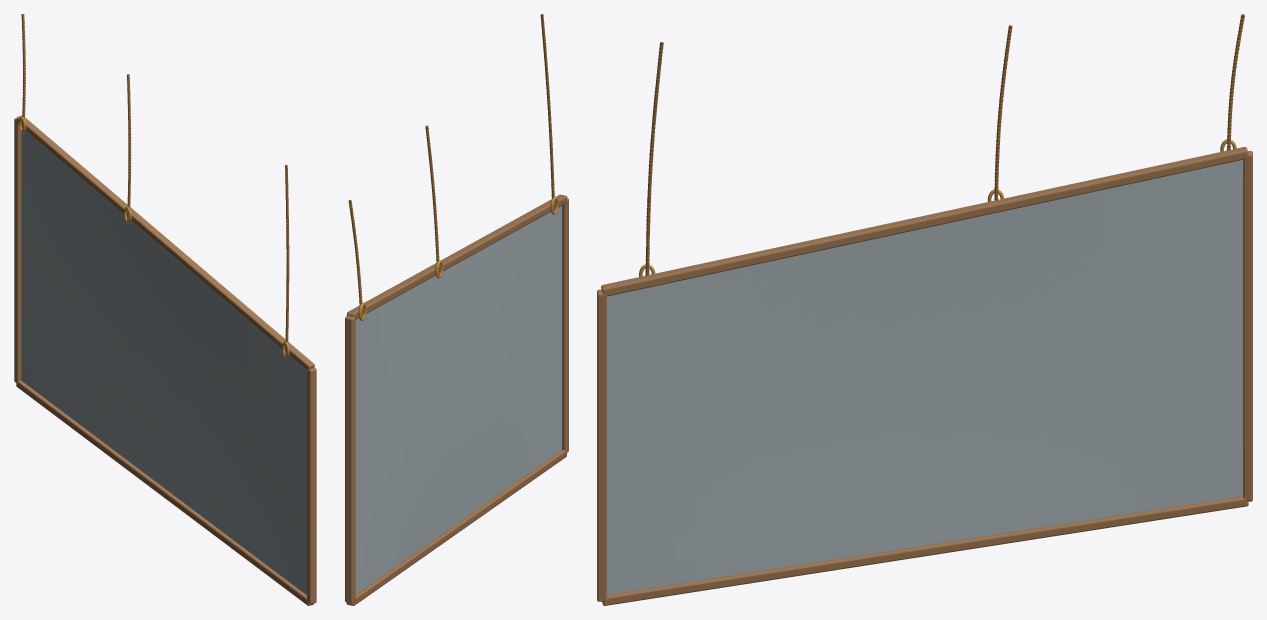
Rendered from SM_Menu_ScenicBackdrop.fbx.
3 renders of one model, left to right at view 1: azimuth 30°, elevation 25°; view 2: azimuth 150°, elevation 25°; view 3: azimuth 270°, elevation 25°, orthographic. The views are drawn at different scales.
Visible parts, largest first — view 1: SM_Menu_ScenicBackdrop; view 2: SM_Menu_ScenicBackdrop; view 3: SM_Menu_ScenicBackdrop.
Part boxes in pixels (x1=…): SM_Menu_ScenicBackdrop: x1=14, y1=14, x2=316, y2=605; SM_Menu_ScenicBackdrop: x1=345, y1=14, x2=568, y2=605; SM_Menu_ScenicBackdrop: x1=597, y1=14, x2=1252, y2=605.
Bounding box in the file's own units: 94.65 × 720 × 679.
